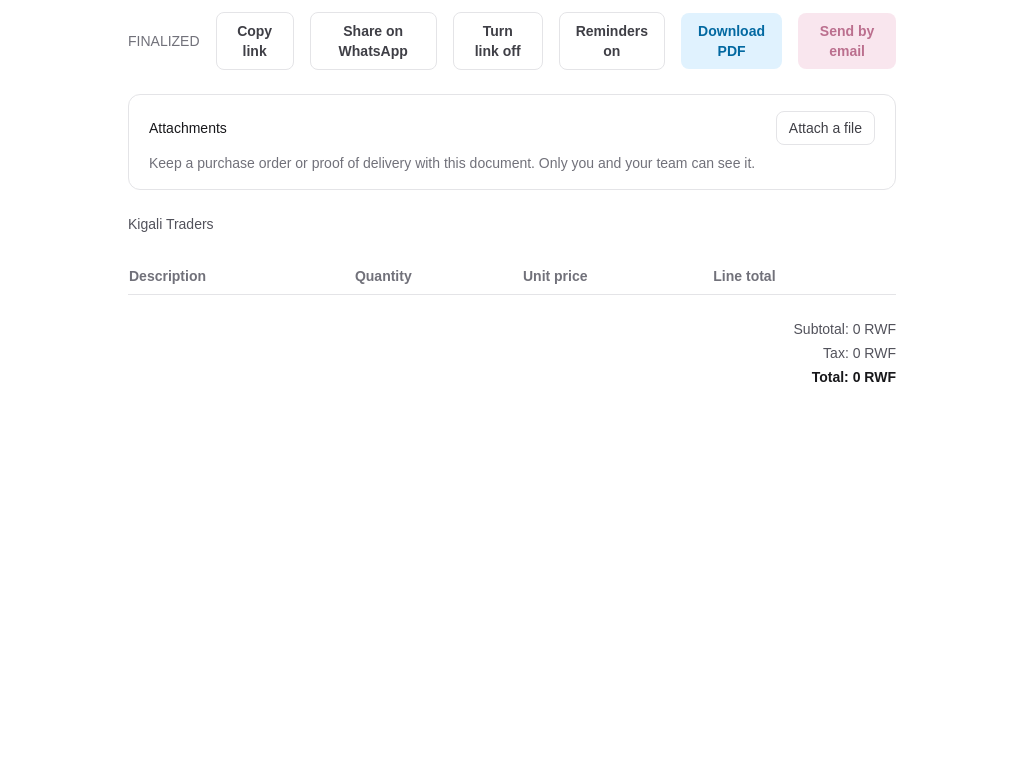
Scenario: DocumentView › toggles automatic reminders on a finalized invoice
Step 1. Click the button "Reminders on" → (612, 41), box [559,12,665,70]
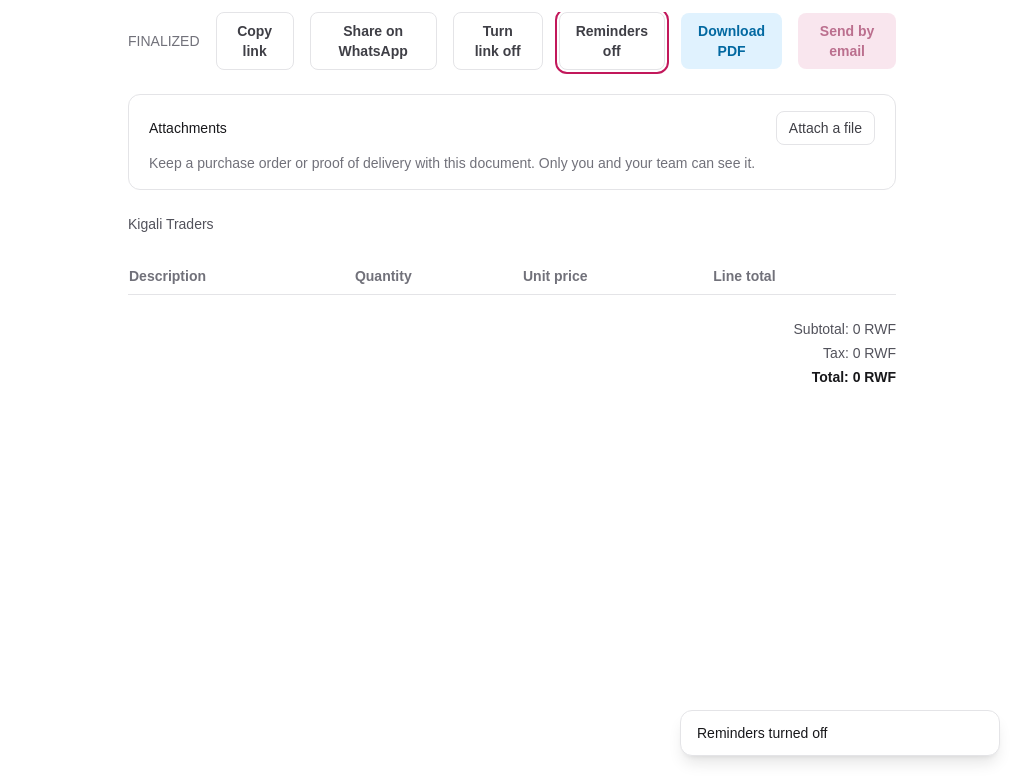
Now the text "Reminders turned off" is shown, box [697,725,828,741]
Now the button "Reminders off" is shown, box [559,12,665,70]
